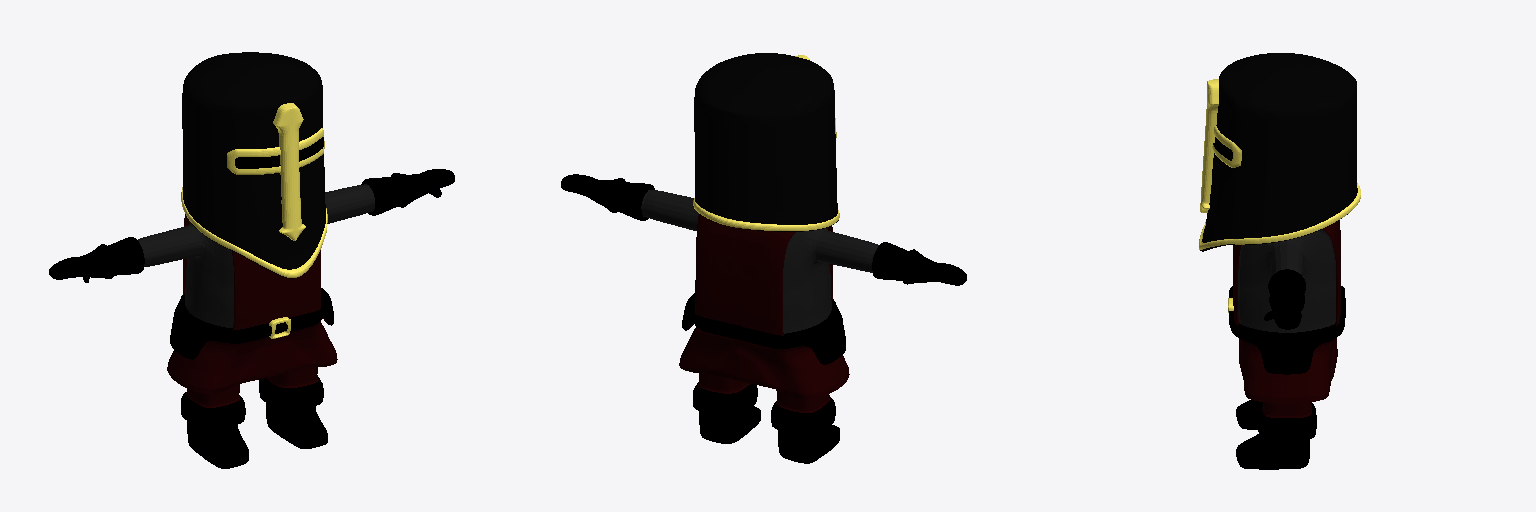
The model's file is knight.obj.
3 renders of one model, left to right at view 1: azimuth 30°, elevation 25°; view 2: azimuth 150°, elevation 25°; view 3: azimuth 270°, elevation 25°, orthographic.
Parts seen in each view (by area): view 1: Cube.004_Cube.009, Cylinder; view 2: Cube.004_Cube.009, Cylinder; view 3: Cylinder, Cube.004_Cube.009.
Boxes of the visible parts, x1=… form: Cube.004_Cube.009: x1=49, y1=169, x2=454, y2=468; Cylinder: x1=181, y1=52, x2=327, y2=278; Cube.004_Cube.009: x1=561, y1=174, x2=966, y2=463; Cylinder: x1=693, y1=53, x2=839, y2=231; Cylinder: x1=1199, y1=53, x2=1360, y2=251; Cube.004_Cube.009: x1=1228, y1=220, x2=1345, y2=469.
Size of the model in its own units: 8.05 by 7.19 by 2.81.